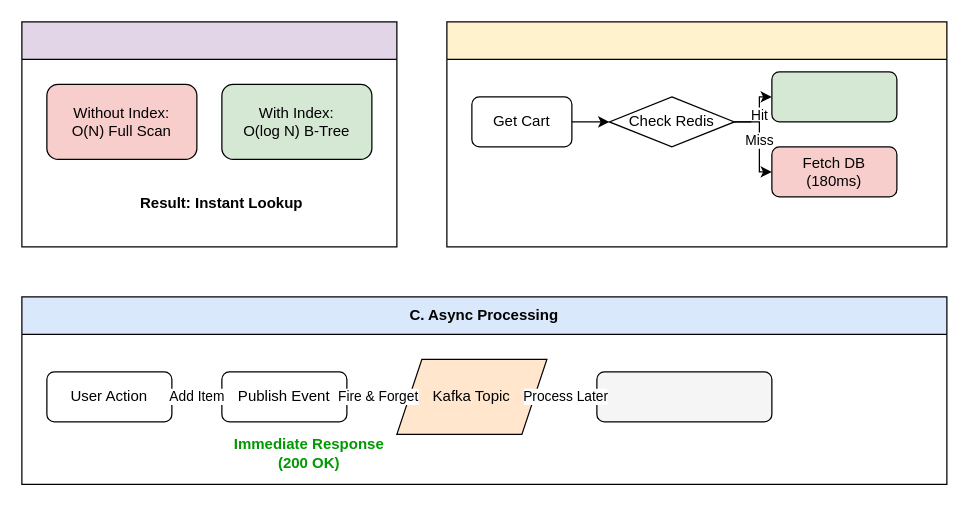
Image size: 969x506. Some labels were removed from this diagram. The box of each missing label's shape, as (x1, y1, x2, y2) in pixels:
A. DB Indexing (B-Tree): (21, 21, 397, 247)
B. Redis Cache-Aside: (446, 21, 947, 247)
Consumer (Inventory/Analytics): (596, 371, 772, 422)
Return Data (15ms): (771, 71, 897, 122)
